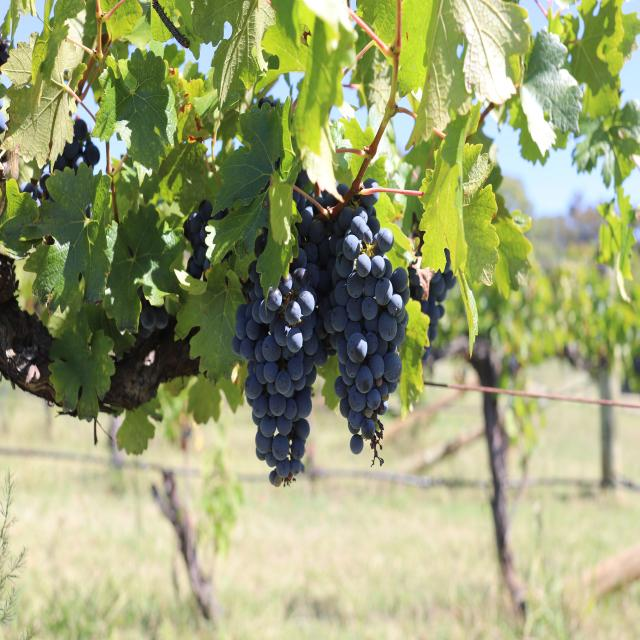grapes: (231, 178, 410, 486), (408, 249, 456, 343), (53, 117, 100, 174)
